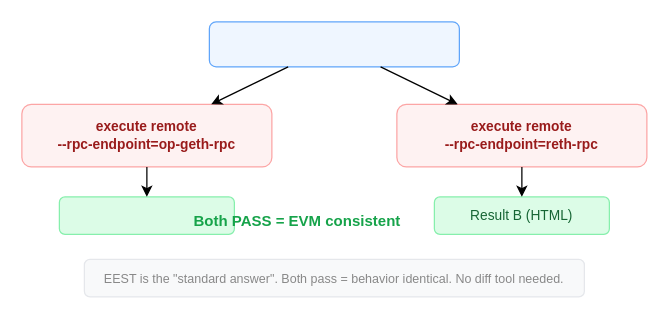
Some shapes in this 669 by 319 pixel diagram are drawn without their labels. The centre of each missing label's shape, as x and y in pixels:
EEST 5000+ test fixtures: the point at 333,44
Result A (HTML): the point at 146,215
